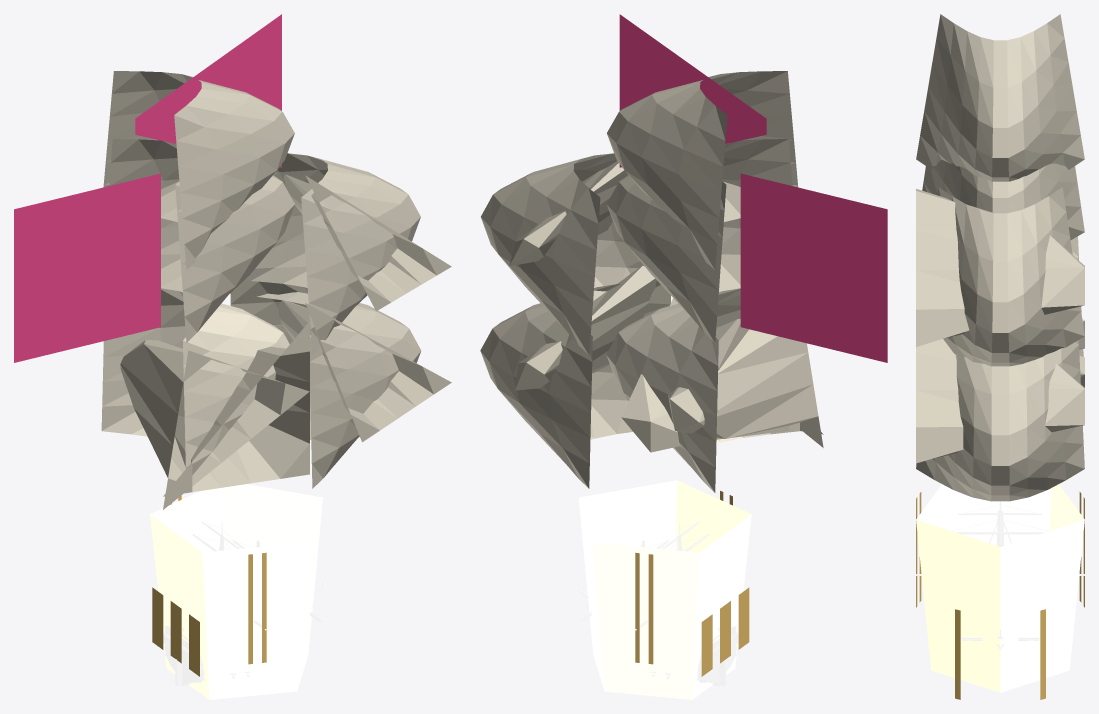
The model's file is navire-brick-leger.glb.
The picture shows the model from 3 angles, left to right: view 1: azimuth 30°, elevation 25°; view 2: azimuth 150°, elevation 25°; view 3: azimuth 270°, elevation 25°; orthographic projection.
Visible parts, largest first — view 1: navire_lumieres.009, drapeau.014, voile_perroquet.010, voile_misaine_hune.009, voile_grande.014, voile_hune.010, voile_misaine.014, voile_brigantine.001, voile_brigantine2.001, flamme.014, voile_foc2.009, voile_foc.010 (+2 smaller); view 2: navire_lumieres.009, drapeau.014, voile_perroquet.010, voile_misaine_hune.009, voile_misaine.014, voile_hune.010, voile_grande.014, voile_brigantine.001, flamme.014, voile_foc2.009, navire_vitres.009, voile_brigantine2.001 (+2 smaller); view 3: navire_lumieres.009, voile_perroquet.010, voile_misaine_hune.009, voile_misaine.014, voile_foc.010, voile_foc2.009, voile_hune.010, navire_vitres.009, navire_corps.014.
Boxes of the visible parts, left/top/right/bottom form: navire_lumieres.009: left=150, top=484, right=322, bottom=699; drapeau.014: left=14, top=173, right=160, bottom=362; voile_perroquet.010: left=103, top=71, right=294, bottom=269; voile_misaine_hune.009: left=230, top=153, right=420, bottom=355; voile_grande.014: left=101, top=288, right=289, bottom=475; voile_hune.010: left=109, top=139, right=294, bottom=342; voile_misaine.014: left=230, top=280, right=421, bottom=488; voile_brigantine.001: left=120, top=339, right=309, bottom=509; voile_brigantine2.001: left=163, top=321, right=309, bottom=496; flamme.014: left=135, top=14, right=281, bottom=167; voile_foc2.009: left=278, top=300, right=451, bottom=442; voile_foc.010: left=283, top=174, right=451, bottom=311; navire_lumieres.009: left=578, top=480, right=751, bottom=699; drapeau.014: left=740, top=173, right=887, bottom=362; voile_perroquet.010: left=607, top=71, right=798, bottom=269; voile_misaine_hune.009: left=481, top=153, right=654, bottom=355; voile_misaine.014: left=480, top=281, right=670, bottom=488; voile_hune.010: left=606, top=139, right=792, bottom=342; voile_grande.014: left=606, top=288, right=799, bottom=492; voile_brigantine.001: left=668, top=318, right=823, bottom=447; flamme.014: left=619, top=14, right=766, bottom=167; voile_foc2.009: left=515, top=266, right=656, bottom=390; navire_vitres.009: left=635, top=491, right=749, bottom=676; voile_brigantine2.001: left=621, top=298, right=823, bottom=452; navire_lumieres.009: left=916, top=484, right=1084, bottom=692; voile_perroquet.010: left=916, top=14, right=1084, bottom=181; voile_misaine_hune.009: left=937, top=187, right=1084, bottom=366; voile_misaine.014: left=916, top=340, right=1084, bottom=501; voile_foc.010: left=916, top=189, right=1084, bottom=346; voile_foc2.009: left=916, top=339, right=1084, bottom=463; voile_hune.010: left=922, top=159, right=1084, bottom=239; navire_vitres.009: left=916, top=492, right=1084, bottom=699; navire_corps.014: left=916, top=501, right=1084, bottom=649.
Size of the model in its own units: 5.49 by 8.42 by 2.
